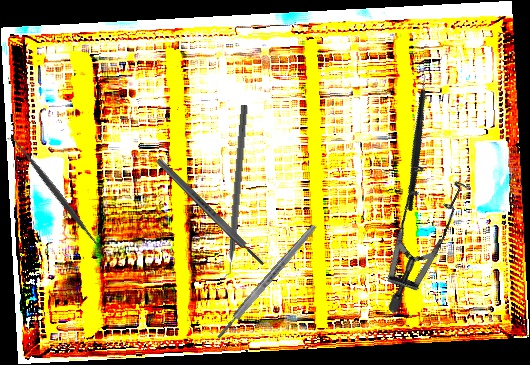Chopper: (358, 63, 472, 213), (215, 104, 249, 283)
Scalpel Handle: (213, 222, 320, 342), (154, 156, 267, 268)
Spatula Surgical: (5, 129, 112, 261)
Speculum: (327, 146, 501, 315)
